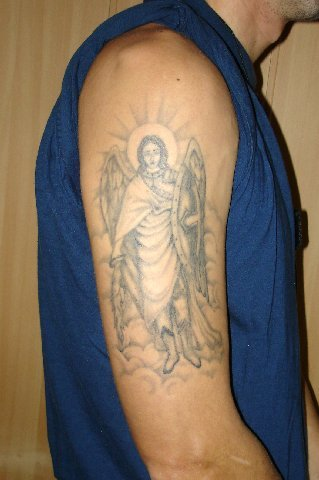tatu1_angel: (84, 108, 227, 382)
